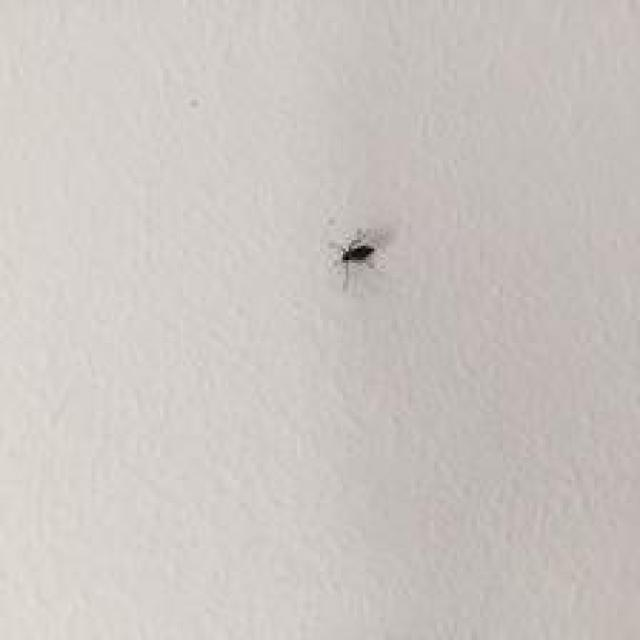Aedes albopictus: (338, 240, 376, 266)
